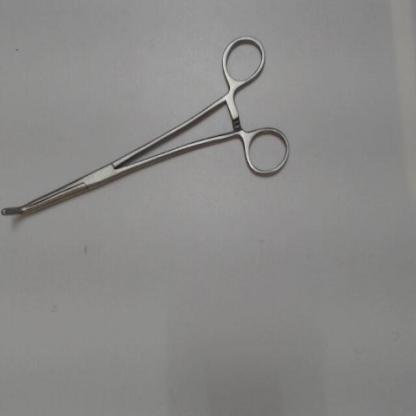Lahey Forceps: (0, 30, 298, 224)
